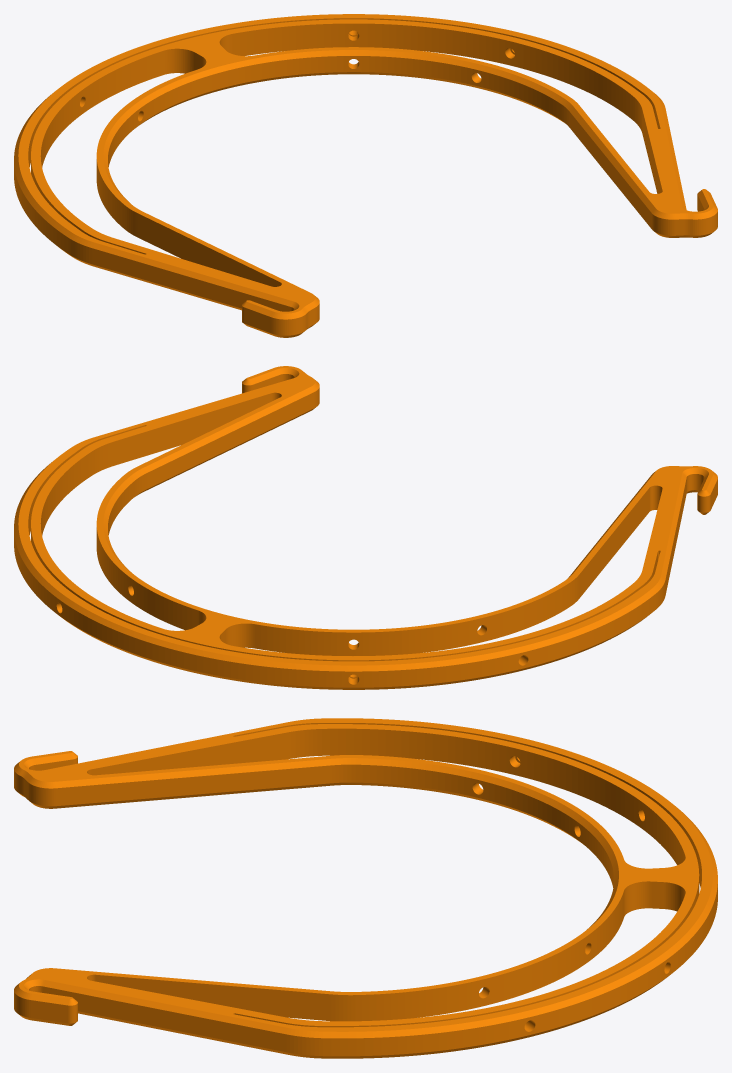
File: FaceShield_v6.dae
The picture shows the model from 3 angles, top to bottom: view 1: azimuth 30°, elevation 25°; view 2: azimuth 150°, elevation 25°; view 3: azimuth 270°, elevation 25°; orthographic projection. The views are drawn at different scales.
Parts seen in each view (by area): view 1: 5e7a1c02a79b280eb8fe6f6e; view 2: 5e7a1c02a79b280eb8fe6f6e; view 3: 5e7a1c02a79b280eb8fe6f6e.
Boxes of the visible parts, x1,y1,x2,y2 form: 5e7a1c02a79b280eb8fe6f6e: (14,14,717,337); 5e7a1c02a79b280eb8fe6f6e: (14,366,717,689); 5e7a1c02a79b280eb8fe6f6e: (14,718,717,1058).
Bounding box in the file's own units: 0.152 × 0.1423 × 0.006.
